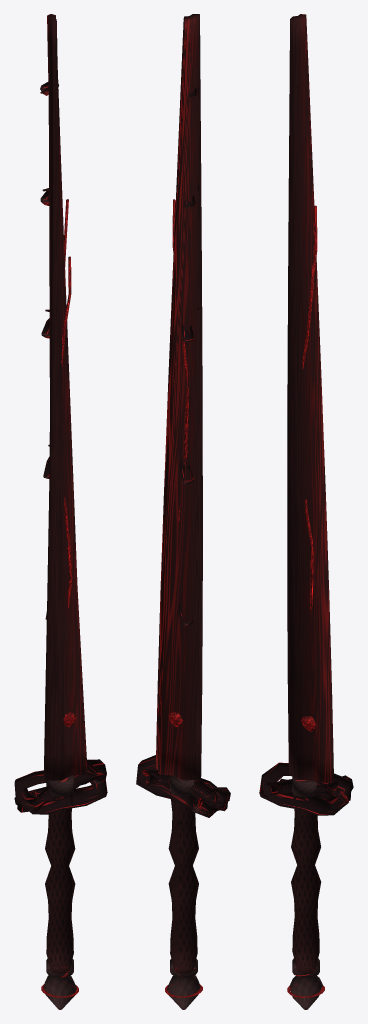
File: sword_03_bramble_blade.glb
3 views of the same model, side by side, from view 1: azimuth 30°, elevation 25°; view 2: azimuth 150°, elevation 25°; view 3: azimuth 330°, elevation 25° (orthographic).
Visible parts, largest first — view 1: Blade_BrambleRapier, Grip_BloodbarkWrap, Guard_BrambleTangle, Inlay_BloodSapDrips, Pommel_ThornBud, Ferrule_BloodIron, Thorns_DrinkingThorns; view 2: Blade_BrambleRapier, Grip_BloodbarkWrap, Guard_BrambleTangle, Pommel_ThornBud, Ferrule_BloodIron, Thorns_DrinkingThorns, Inlay_BloodSapDrips; view 3: Blade_BrambleRapier, Grip_BloodbarkWrap, Guard_BrambleTangle, Inlay_BloodSapDrips, Pommel_ThornBud, Ferrule_BloodIron.
Part boxes in pixels (left/top/right/bottom): Blade_BrambleRapier: left=43, top=14, right=87, bottom=780; Grip_BloodbarkWrap: left=45, top=779, right=75, bottom=973; Guard_BrambleTangle: left=14, top=759, right=107, bottom=814; Inlay_BloodSapDrips: left=61, top=199, right=72, bottom=609; Pommel_ThornBud: left=41, top=975, right=78, bottom=1009; Ferrule_BloodIron: left=46, top=775, right=73, bottom=977; Thorns_DrinkingThorns: left=40, top=81, right=58, bottom=619; Blade_BrambleRapier: left=155, top=14, right=202, bottom=779; Grip_BloodbarkWrap: left=168, top=779, right=198, bottom=973; Guard_BrambleTangle: left=136, top=755, right=230, bottom=817; Pommel_ThornBud: left=165, top=975, right=202, bottom=1009; Ferrule_BloodIron: left=170, top=775, right=197, bottom=977; Thorns_DrinkingThorns: left=178, top=85, right=199, bottom=625; Inlay_BloodSapDrips: left=172, top=199, right=189, bottom=702; Blade_BrambleRapier: left=287, top=14, right=333, bottom=784; Grip_BloodbarkWrap: left=291, top=793, right=321, bottom=973; Guard_BrambleTangle: left=259, top=762, right=353, bottom=815; Inlay_BloodSapDrips: left=302, top=205, right=317, bottom=614; Pommel_ThornBud: left=287, top=975, right=324, bottom=1009; Ferrule_BloodIron: left=292, top=776, right=319, bottom=977.
Bounding box in the file's own units: 0.2439 × 2.6 × 0.1092.
1 material, 1 textured.
